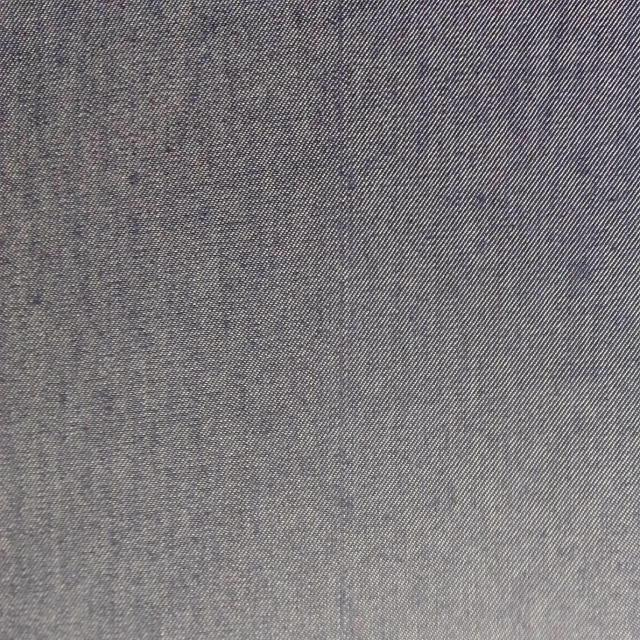Line: (332, 0, 348, 640)
